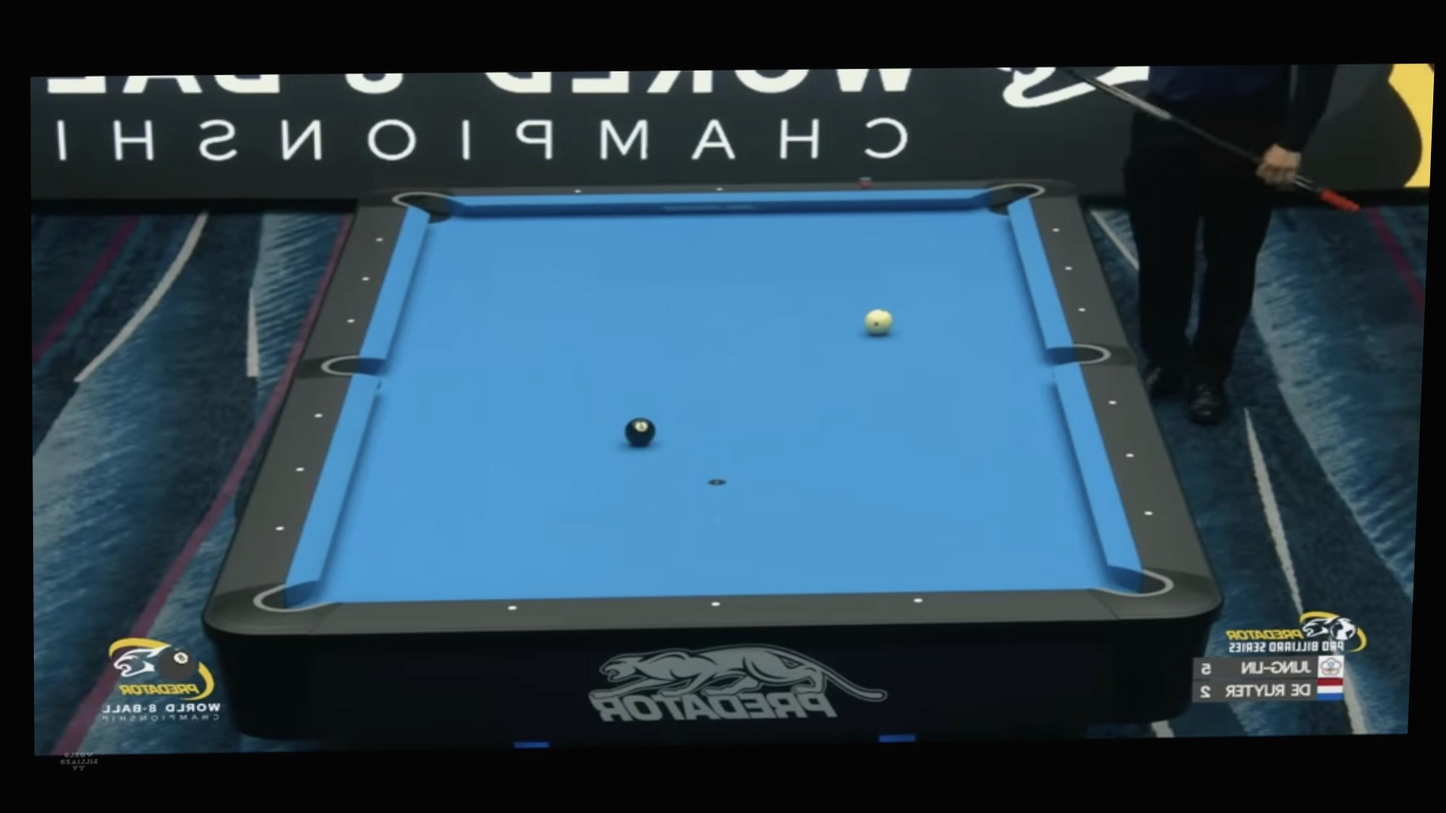Black: (624, 416, 657, 446)
Cue: (864, 307, 893, 336)
Solid: (912, 594, 925, 606), (273, 522, 286, 534), (293, 463, 306, 475), (312, 410, 325, 422), (709, 599, 722, 610), (506, 603, 519, 614), (1142, 508, 1154, 519), (1124, 450, 1135, 461), (1107, 398, 1118, 409), (359, 275, 370, 284), (374, 235, 385, 244), (714, 185, 725, 194), (346, 317, 356, 326), (572, 186, 582, 195), (1077, 305, 1086, 314), (1064, 264, 1073, 273), (1051, 226, 1060, 234)
